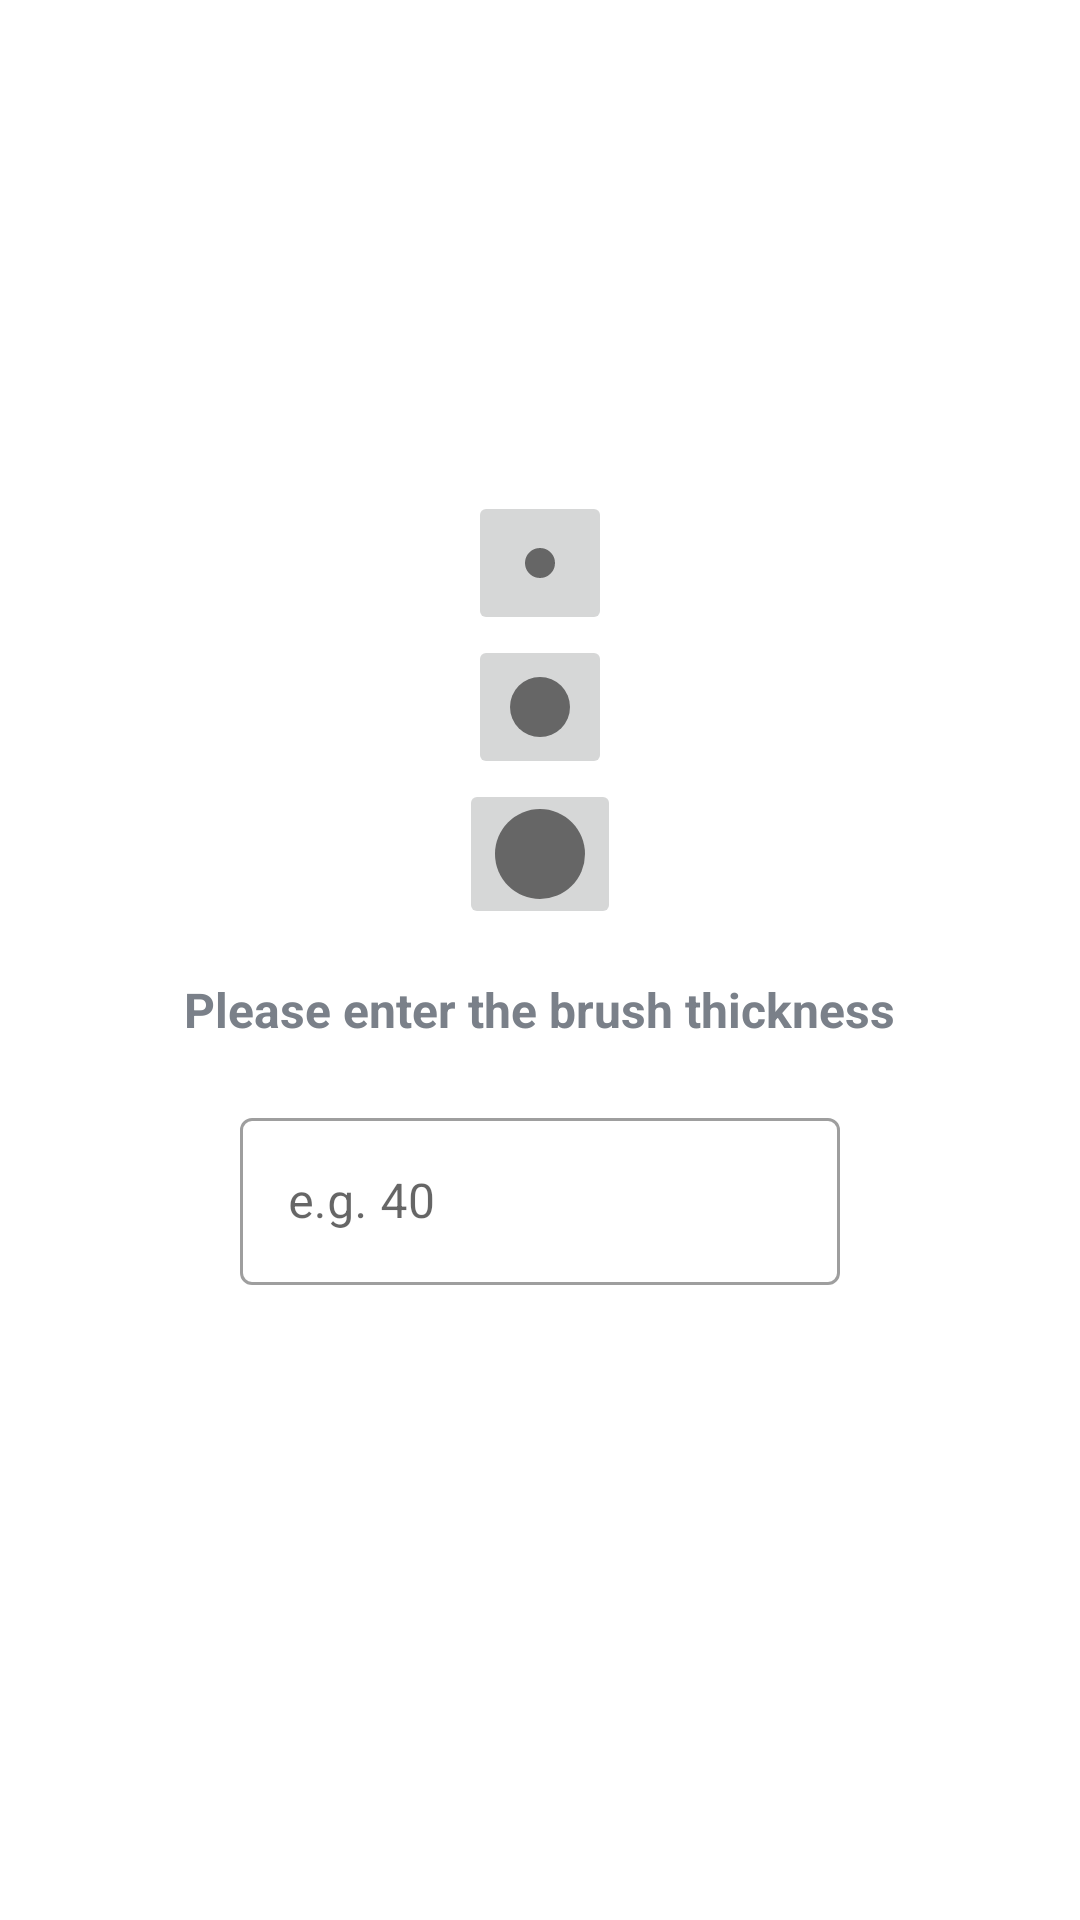

Icons on this 1080x1920 Android screen, each with its box as (x1=x1, y1=y1, x2=x2, y2=y2):
Large Brush: (x1=471, y1=797, x2=609, y2=911)
medium: (x1=480, y1=653, x2=600, y2=761)
Small Brush: (x1=480, y1=509, x2=600, y2=617)
